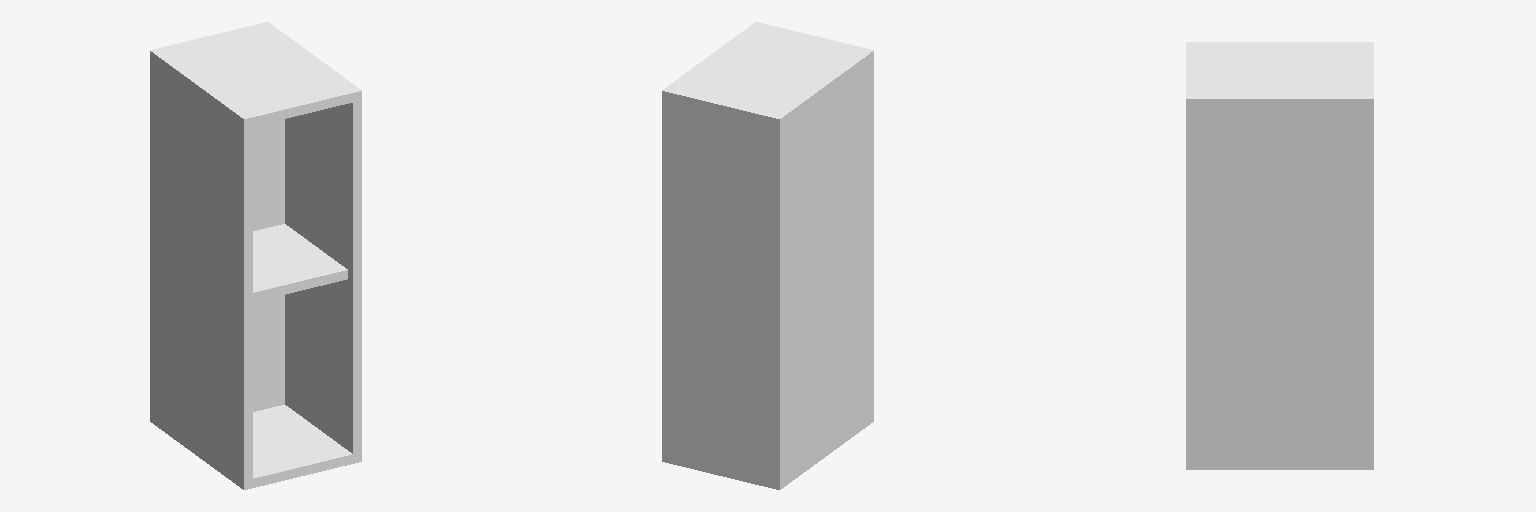
Rendered from taquilla sin puerta.obj.
3 renders of one model, left to right at view 1: azimuth 30°, elevation 25°; view 2: azimuth 150°, elevation 25°; view 3: azimuth 270°, elevation 25°, orthographic.
Visible parts, largest first — view 1: object 1; view 2: object 1; view 3: object 1.
Part boxes in pixels (x1,y1,x2,y2): object 1: (150,22,361,489); object 1: (662,22,873,489); object 1: (1186,42,1373,469).
Size of the model in its own units: 1.3 by 3.9 by 1.8.